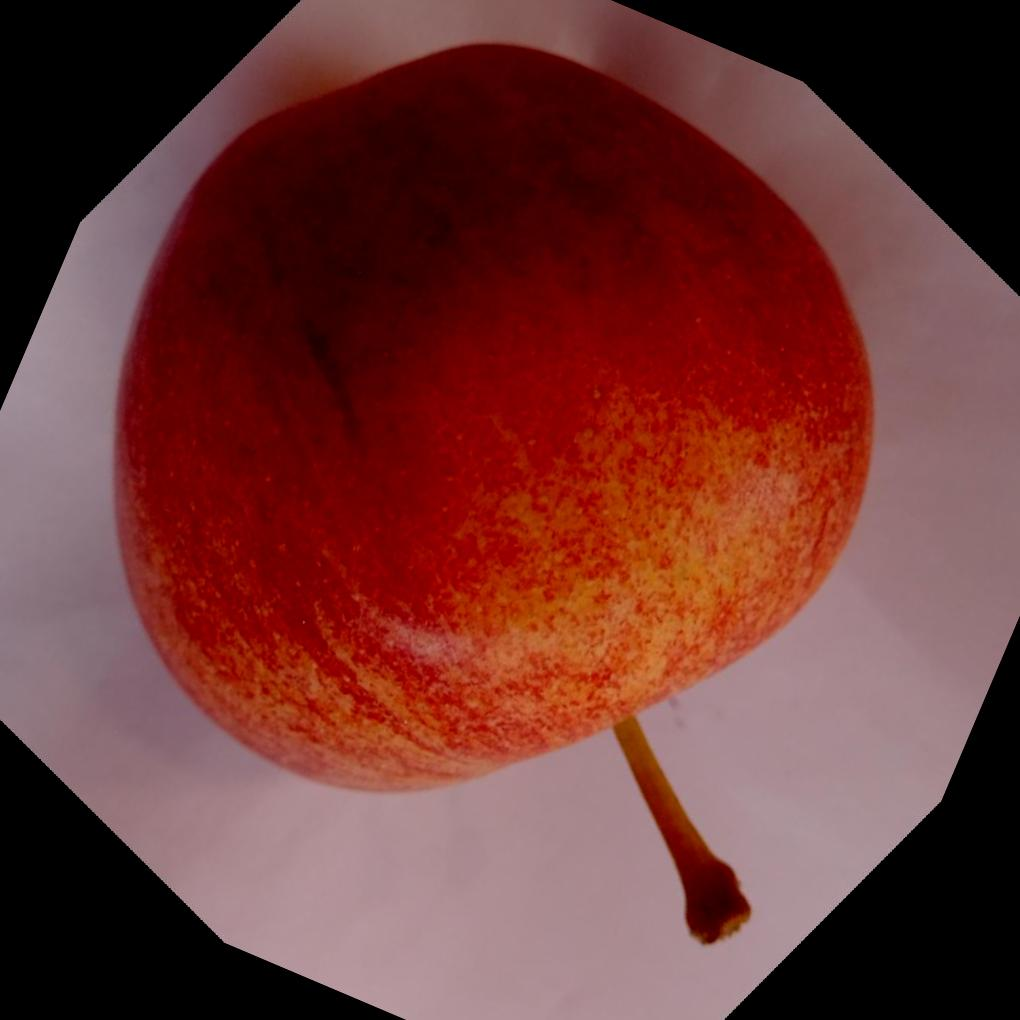FreshGuava: (112, 37, 878, 791)
